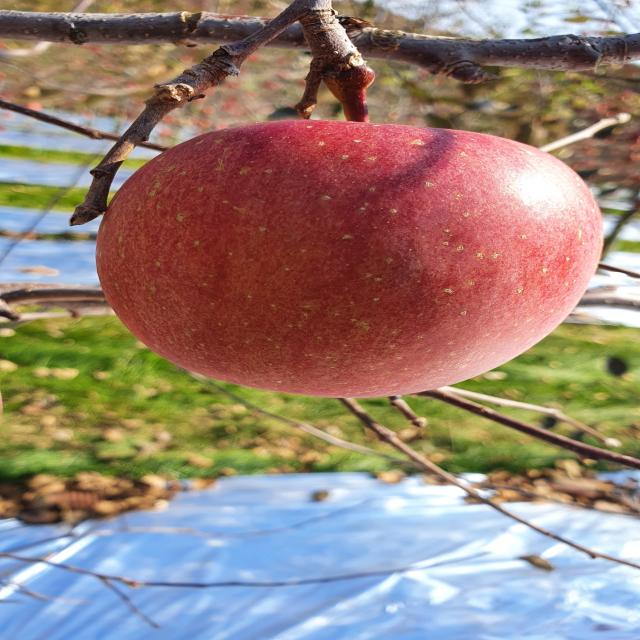fresh: (84, 114, 625, 403)
